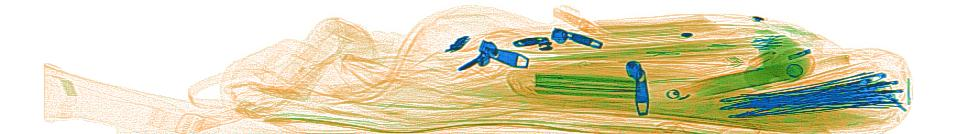seal: (745, 35, 807, 90)
